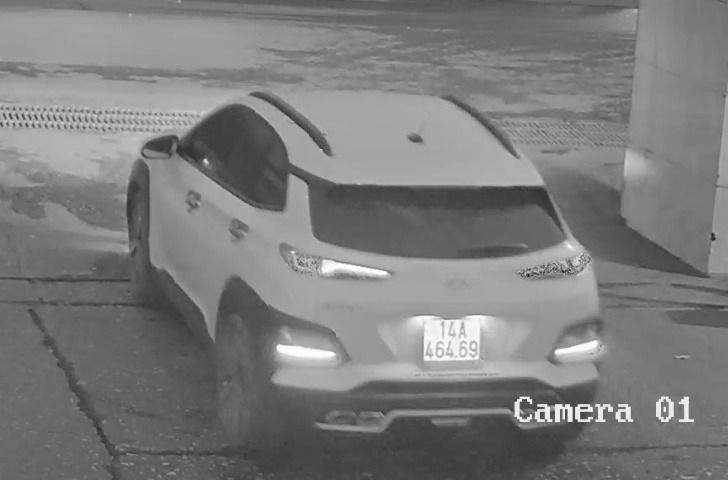vehicle plate: (419, 313, 487, 367)
